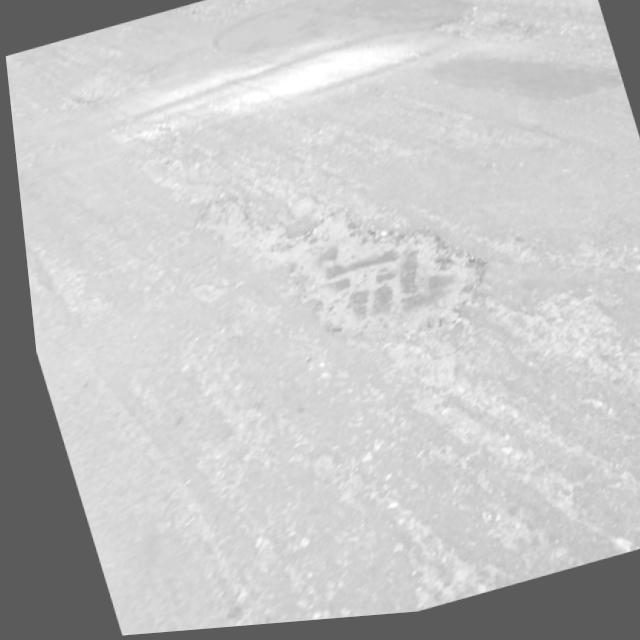pothole: (177, 134, 503, 398)
